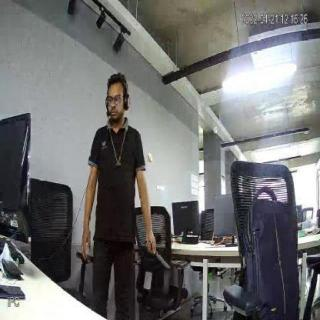knife: (151, 250, 170, 276)
